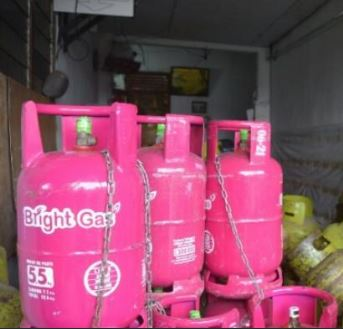bright_gas: (16, 99, 144, 329), (114, 115, 208, 288), (203, 118, 283, 298), (247, 283, 335, 329), (150, 295, 237, 329)
gas_ijo: (288, 232, 343, 309), (278, 193, 325, 259), (1, 245, 22, 329)
